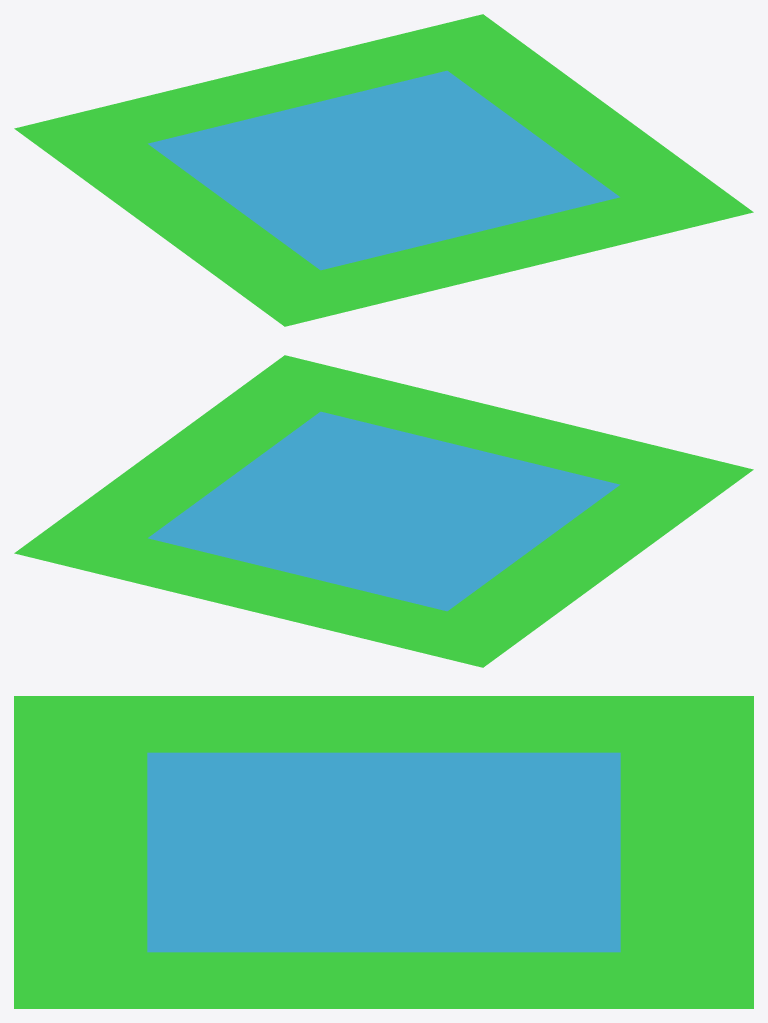
File: pond.glb
3 views of the same model, one above another, from view 1: azimuth 30°, elevation 25°; view 2: azimuth 150°, elevation 25°; view 3: azimuth 270°, elevation 25° (orthographic). The views are drawn at different scales.
Visible parts, largest first — view 1: Plane; view 2: Plane; view 3: Plane.
Part boxes in pixels (box(x1,y1,x2,y2)): Plane: box(14, 14, 753, 326); Plane: box(14, 355, 753, 667); Plane: box(14, 696, 753, 1008).
Size of the model in its own units: 1 by 0 by 1.
